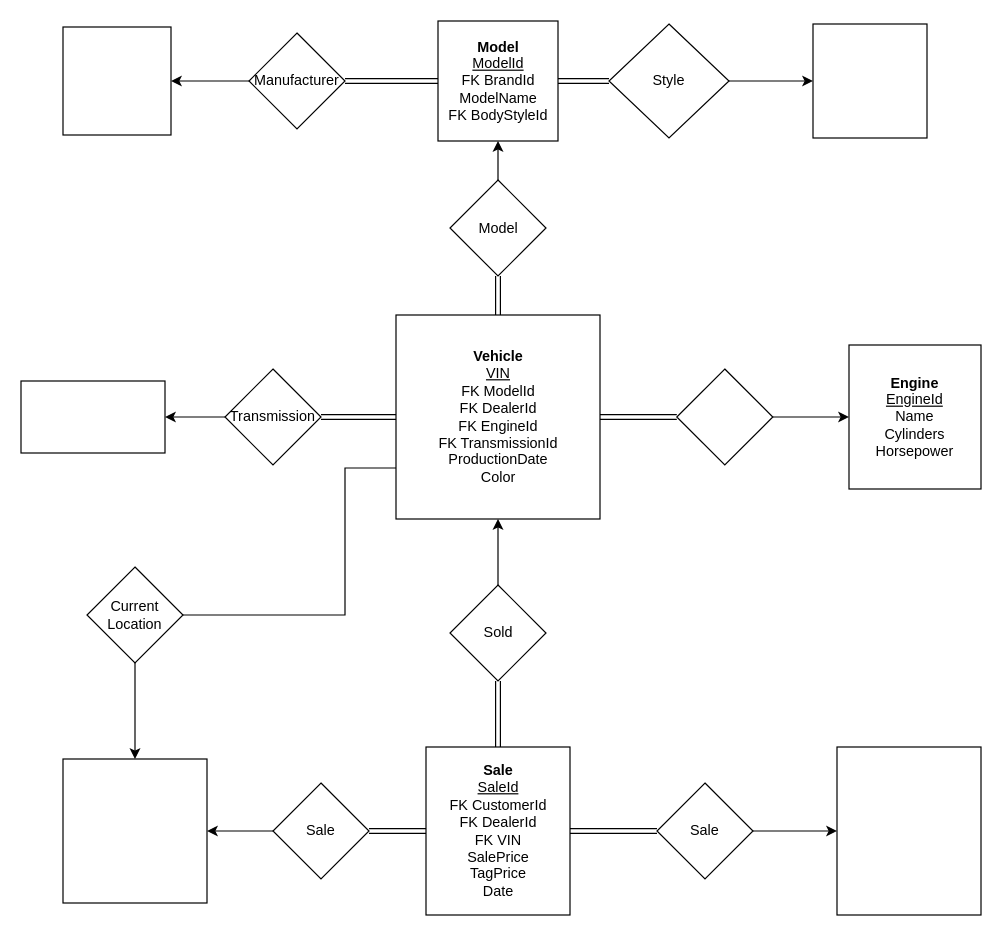
Some shapes in this 1002 by 936 pixel diagram are drawn without their labels. The centre of each missing label's shape, as x and y in pixels:
"BodyStyle BodyStyleId Name Passengers" goes at point (869, 80).
"Brand BrandId Name Logo" goes at point (116, 80).
"Customer CustomerId Name Address Phone Gender Income" goes at point (908, 830).
"Dealer DealerId Name Address" goes at point (134, 830).
"Engine" goes at point (724, 416).
"Transmission TransmissionId Name Type" goes at point (92, 416).
